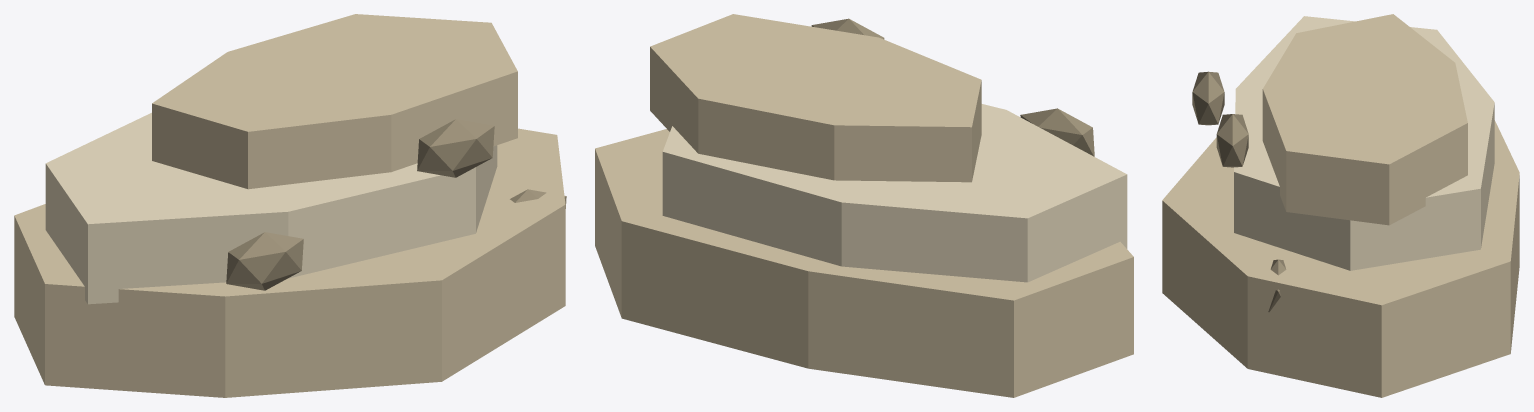
File: coral_limestone.glb
3 renders of one model, left to right at view 1: azimuth 30°, elevation 25°; view 2: azimuth 150°, elevation 25°; view 3: azimuth 270°, elevation 25°, orthographic. The views are drawn at different scales.
Parts seen in each view (by area): view 1: Limestone_Base_Layer, Limestone_Top_Layer, Limestone_Middle_Layer, Limestone_Crevice_2, Limestone_Crevice_1; view 2: Limestone_Base_Layer, Limestone_Middle_Layer, Limestone_Top_Layer, Limestone_Crevice_1, Limestone_Crevice_2; view 3: Limestone_Base_Layer, Limestone_Top_Layer, Limestone_Middle_Layer, Limestone_Crevice_2, Limestone_Crevice_1.
Part boxes in pixels (box(x1,y1,x2,y2)): Limestone_Base_Layer: box(14, 128, 565, 397); Limestone_Top_Layer: box(152, 14, 517, 189); Limestone_Middle_Layer: box(45, 112, 497, 304); Limestone_Crevice_2: box(417, 119, 494, 177); Limestone_Crevice_1: box(226, 232, 303, 290); Limestone_Base_Layer: box(595, 129, 1133, 397); Limestone_Middle_Layer: box(662, 104, 1127, 282); Limestone_Top_Layer: box(650, 14, 981, 182); Limestone_Crevice_1: box(1020, 108, 1094, 156); Limestone_Crevice_2: box(811, 18, 884, 39); Limestone_Base_Layer: box(1162, 120, 1519, 397); Limestone_Top_Layer: box(1262, 14, 1467, 225); Limestone_Middle_Layer: box(1234, 16, 1494, 270); Limestone_Crevice_2: box(1216, 114, 1248, 167); Limestone_Crevice_1: box(1192, 71, 1224, 125).
Size of the model in its own units: 2.1 by 0.845 by 1.33.
